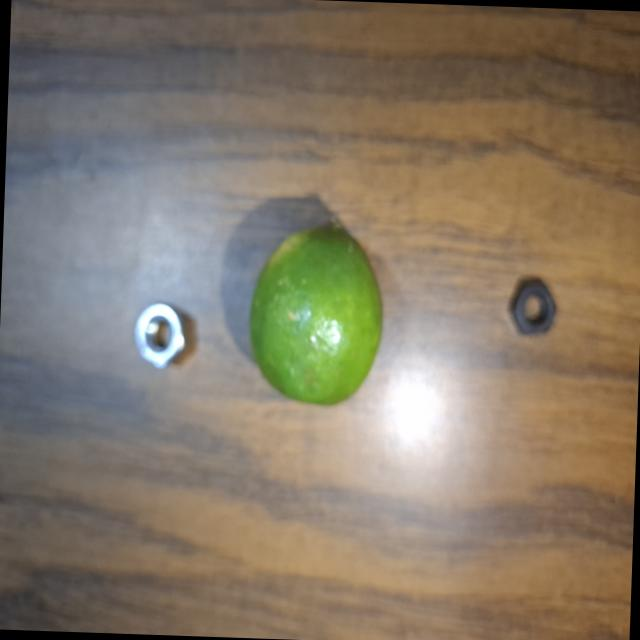limon: (240, 213, 395, 415)
milimetrico: (502, 270, 566, 349)
tuerca: (115, 286, 198, 386)
